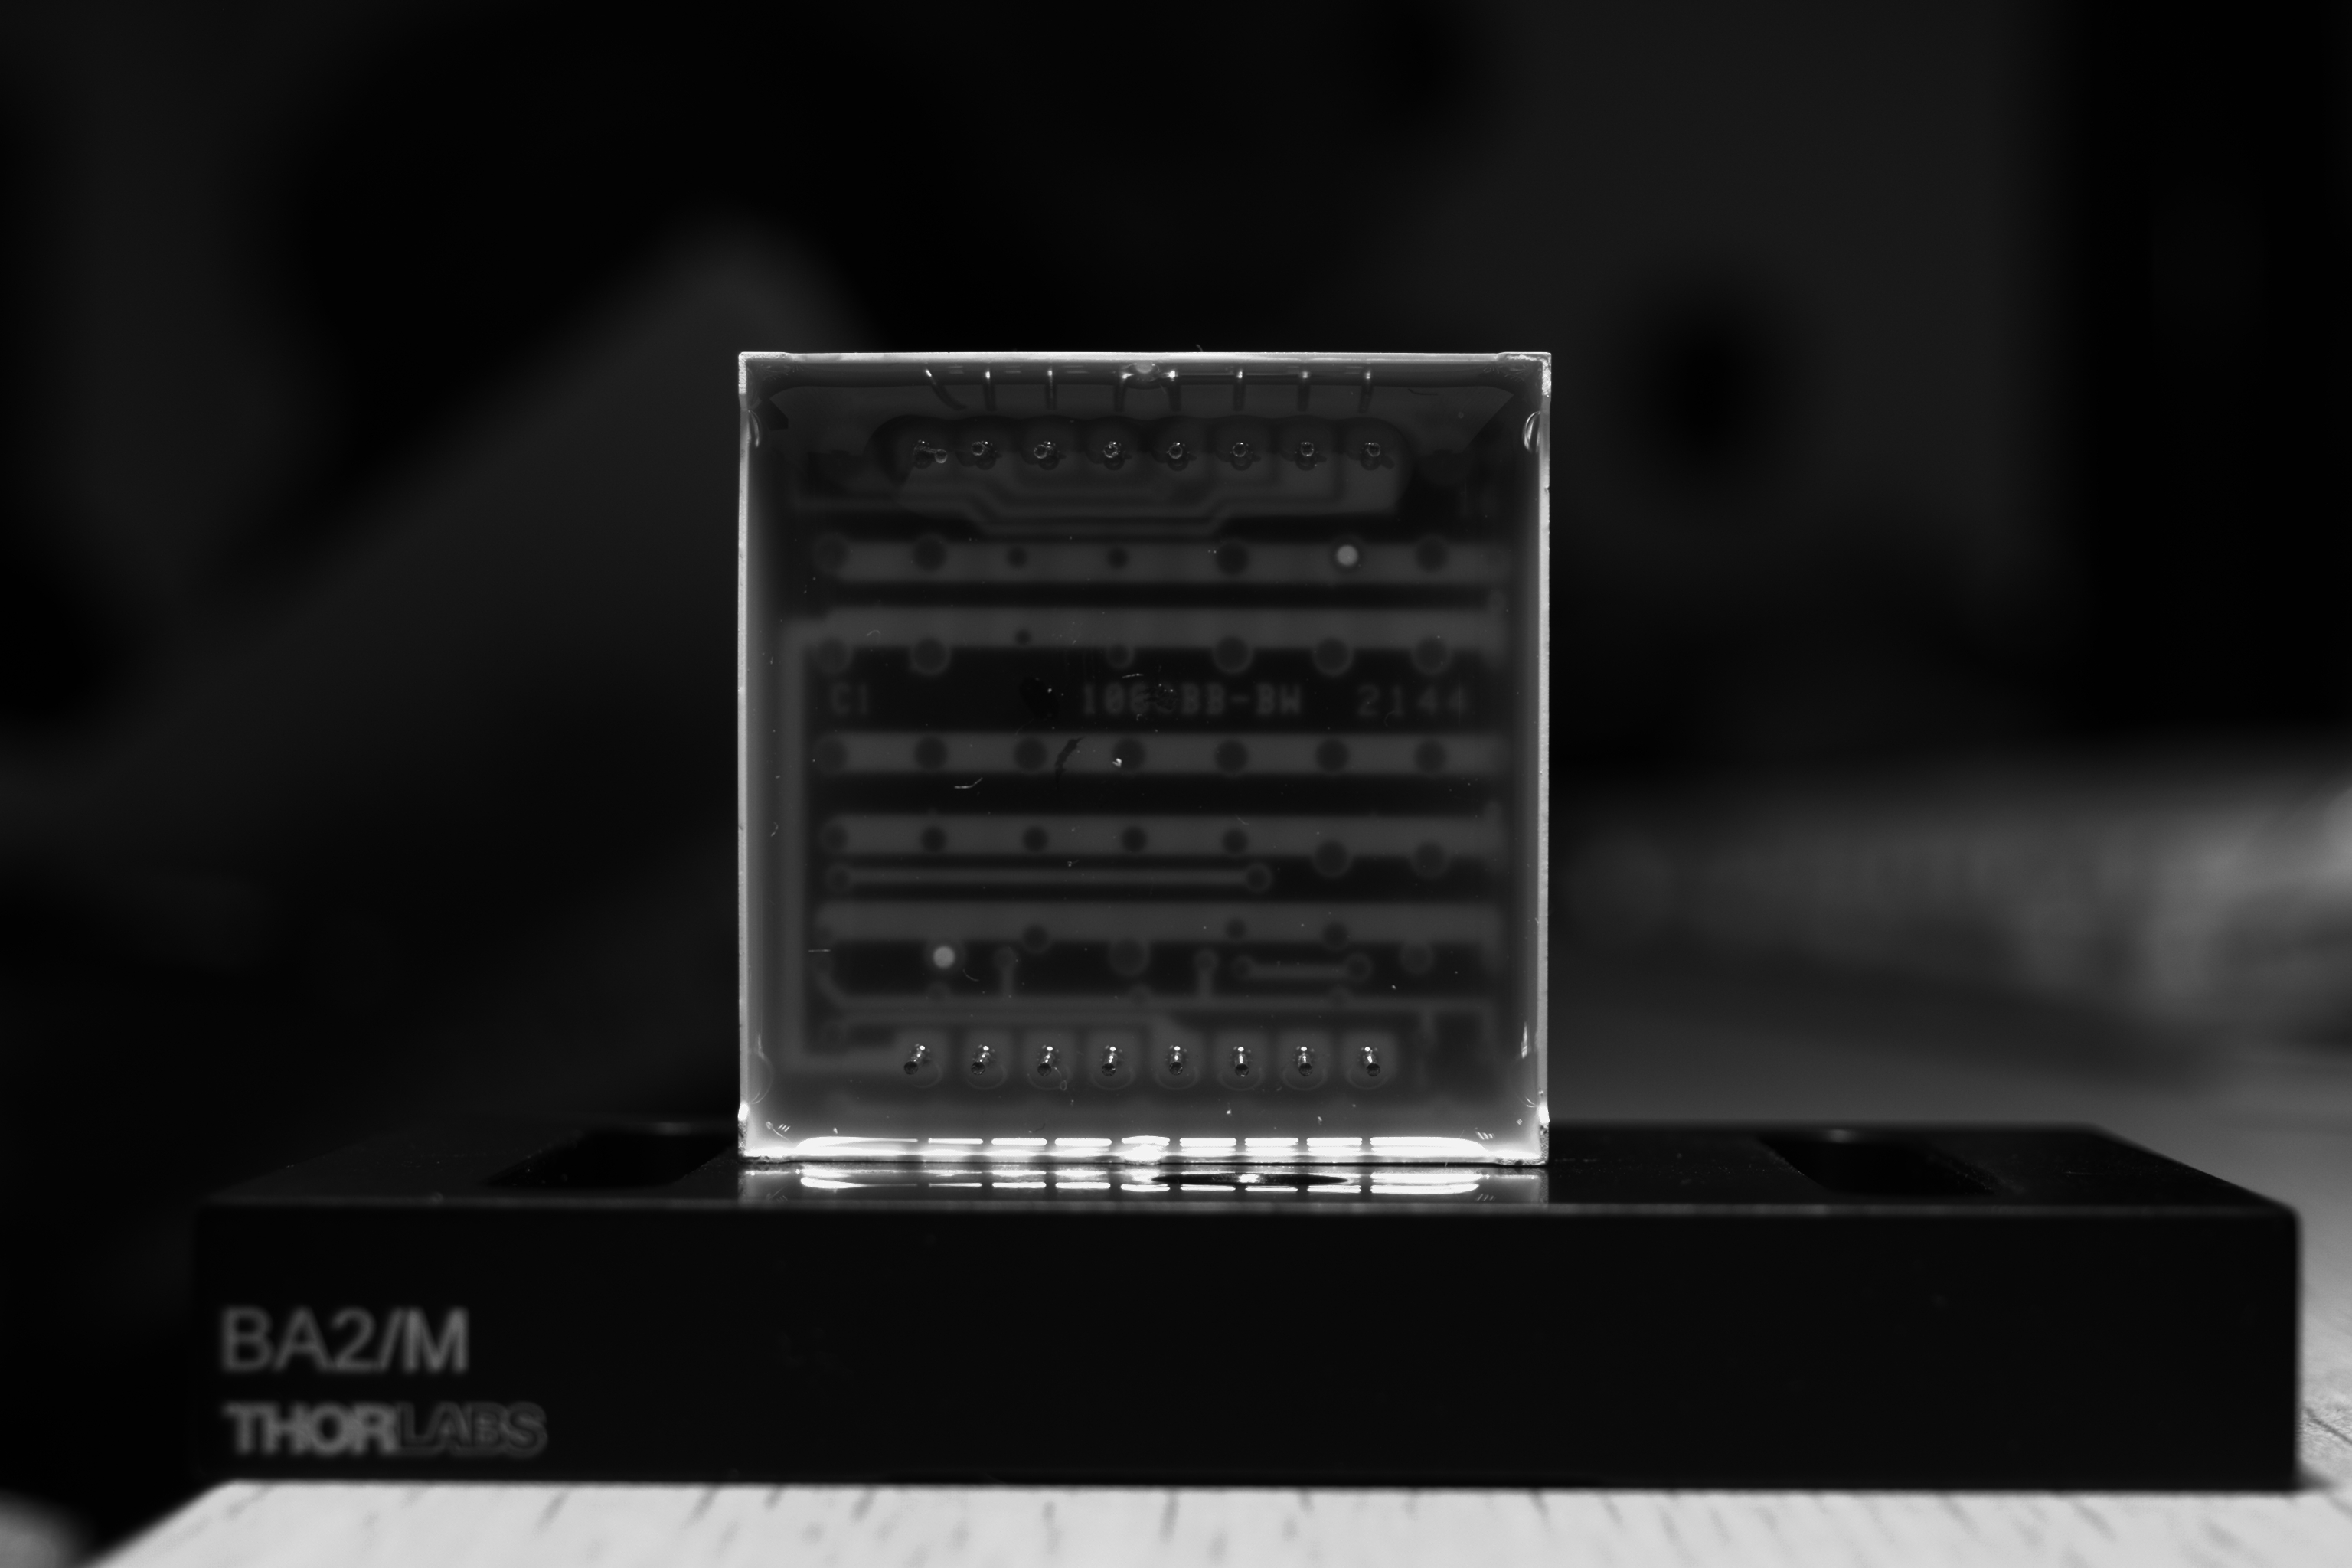pin_inclined_top: (901, 434, 961, 476)
